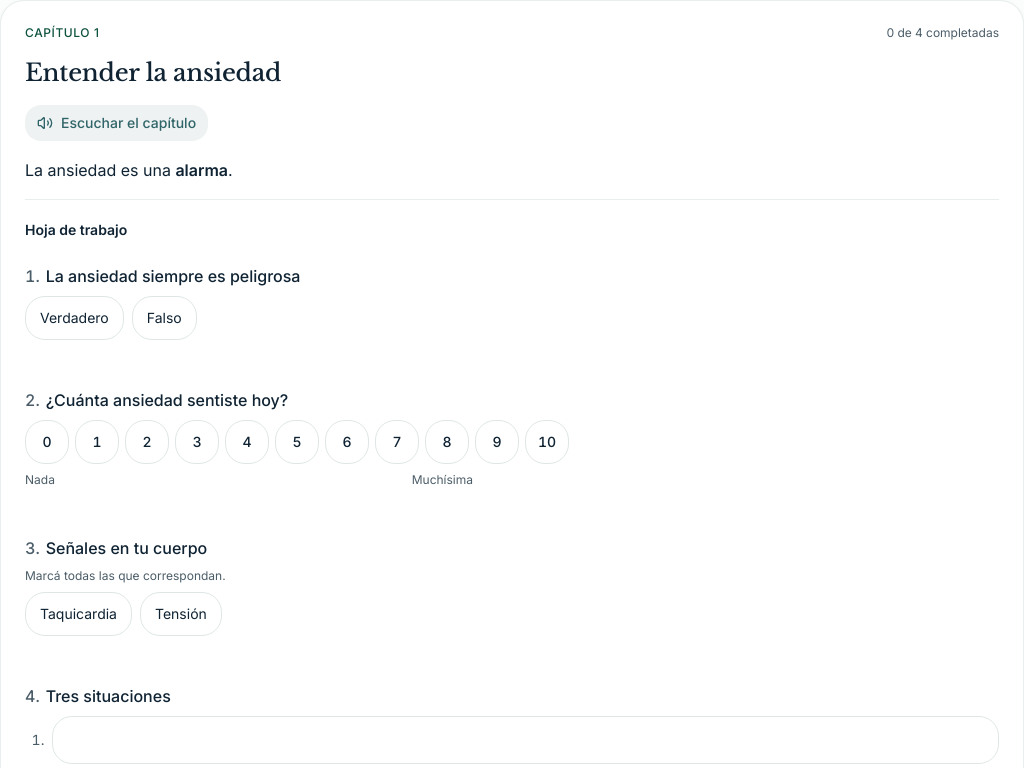
Test: cuadernillo interactivo › muestra V/F, escala, opciones y lista, y explica la respuesta de repaso
This screenshot has width=1024, height=768.
Expected: the heading "Entender la ansiedad" is shown, [25,58,281,87]
Expected: the number of checkboxes is 2, [25,592,132,636]; [140,592,222,636]
Click the radio button labelled "Verdadero". click: point(74, 318)
box: [25,296,124,340]
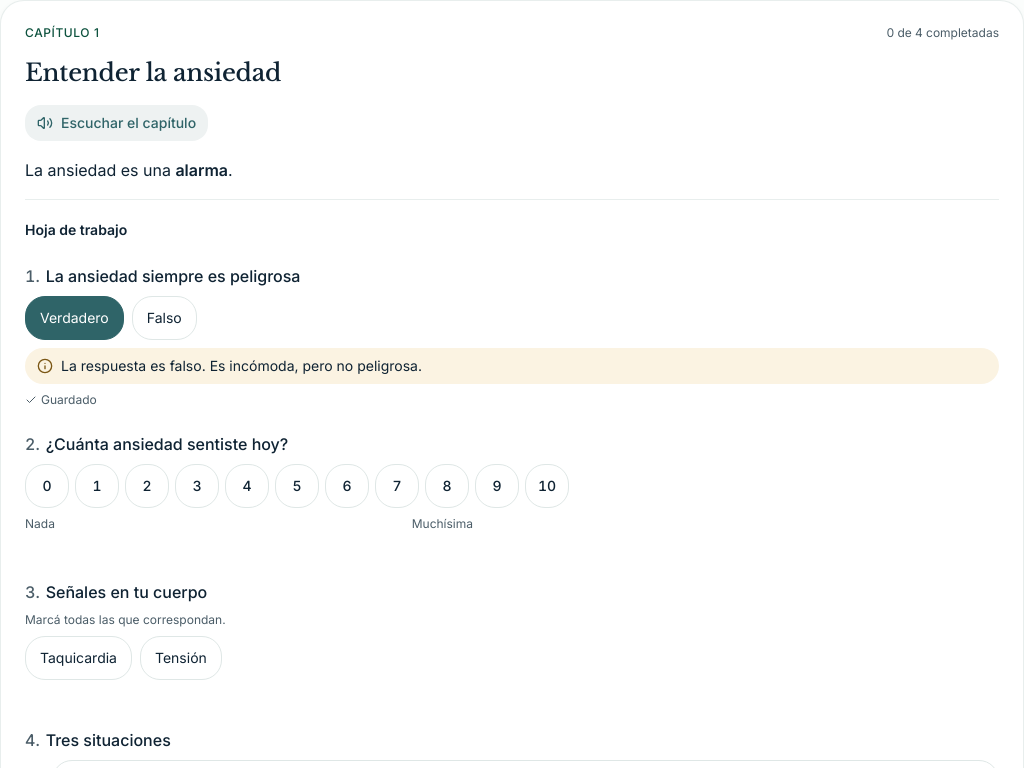
Expected: the text "La respuesta es falso. Es incómoda, pero no peligrosa." is shown, [61,356,422,376]
